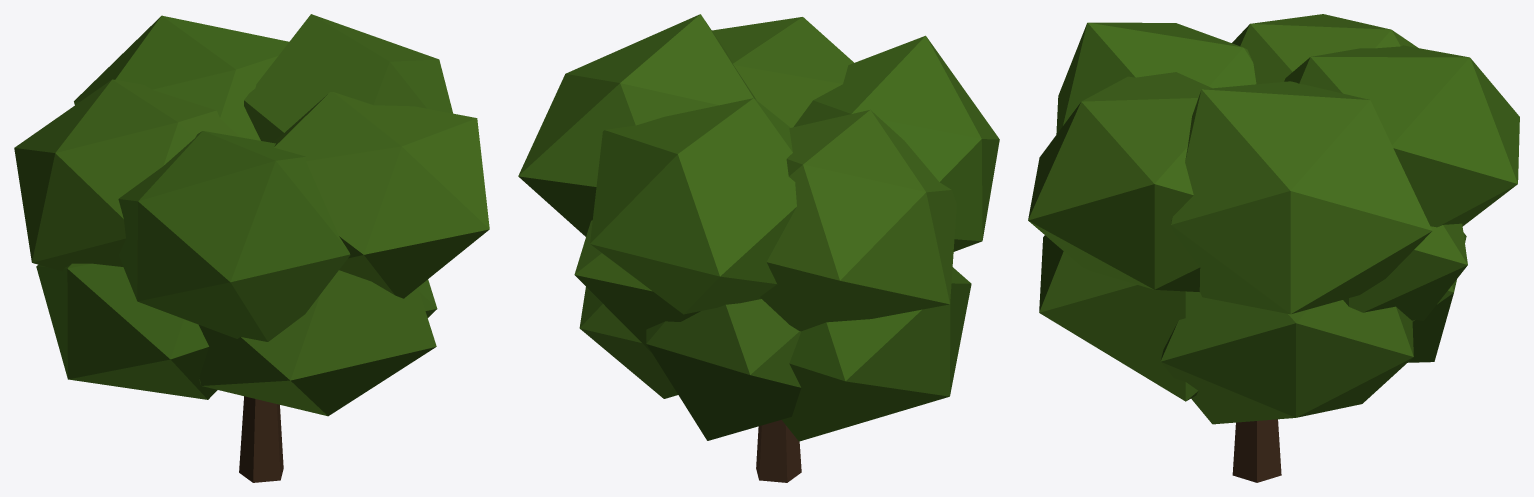
Rendered from tree_maple.glb.
3 renders of one model, left to right at view 1: azimuth 30°, elevation 25°; view 2: azimuth 150°, elevation 25°; view 3: azimuth 270°, elevation 25°, orthographic. The views are drawn at different scales.
Parts seen in each view (by area): view 1: tree_photo_broad; view 2: tree_photo_broad; view 3: tree_photo_broad.
Part boxes in pixels (box(x1,y1,x2,y2)): tree_photo_broad: box(14, 14, 489, 482); tree_photo_broad: box(518, 14, 999, 482); tree_photo_broad: box(1028, 14, 1519, 482).
Bounding box in the file's own units: 0.6954 × 0.6537 × 0.6691.
